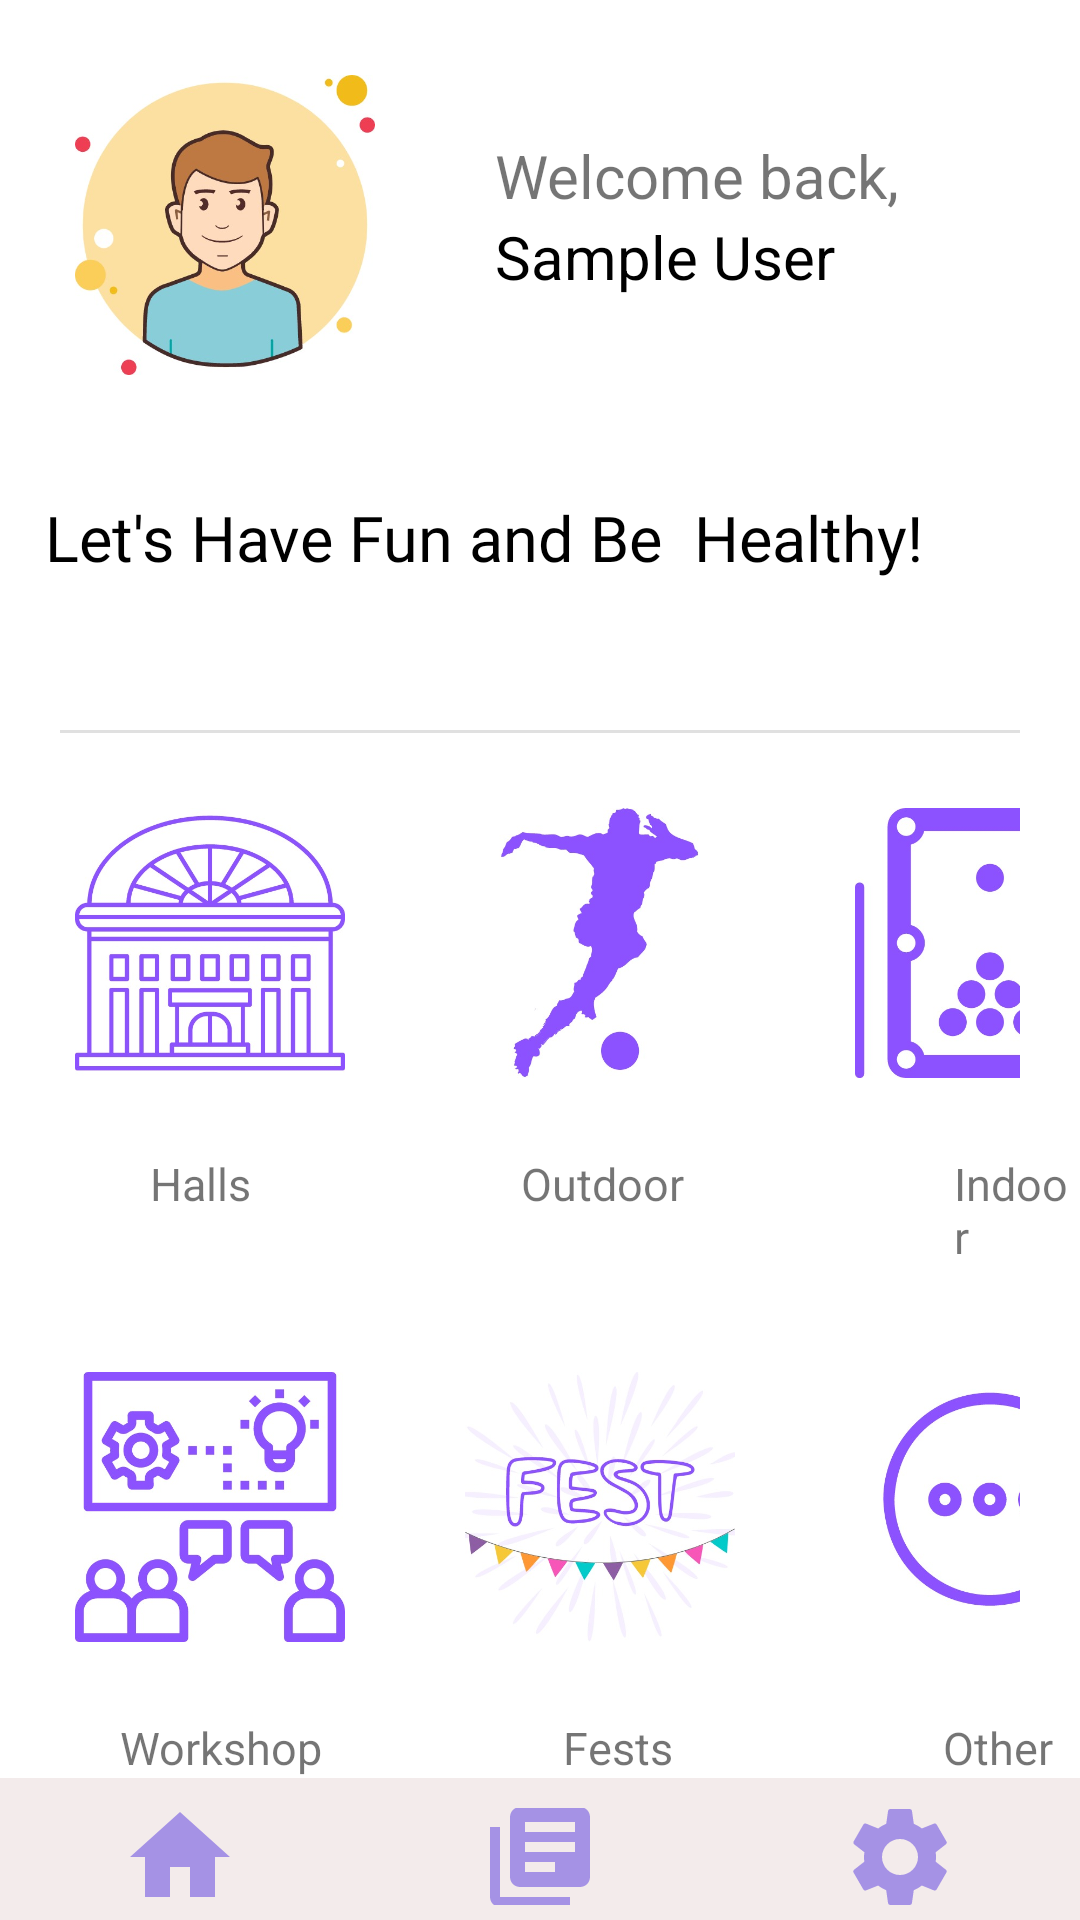

Icons on this 1080x1920 Android screen, each with the point to tap as (x,y):
historybutton: (540,1856)
home: (180,1854)
settingsbutton: (900,1857)
